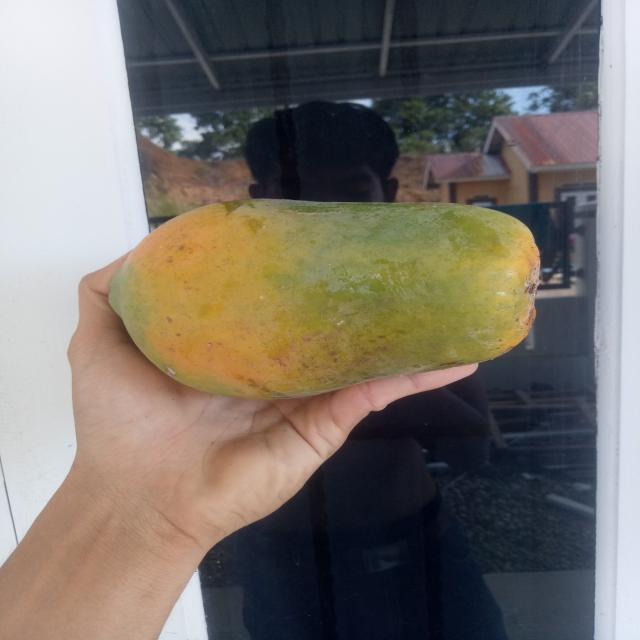Pepaya rippen: (104, 191, 536, 403)
